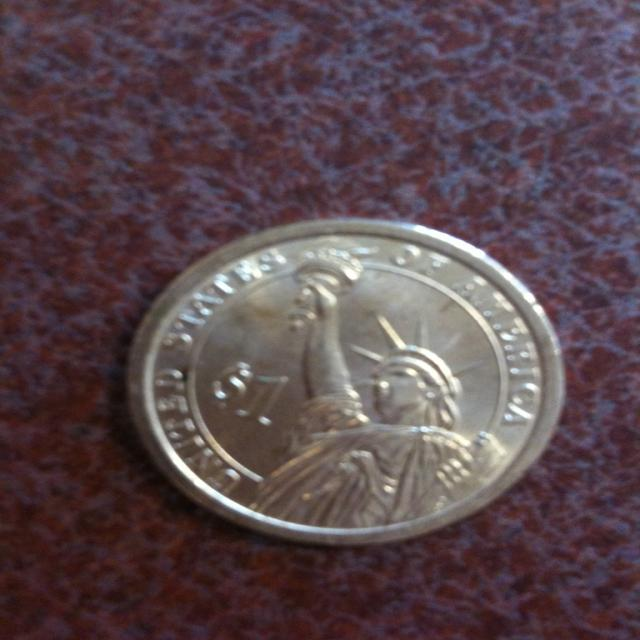Coin: (123, 218, 563, 550)
